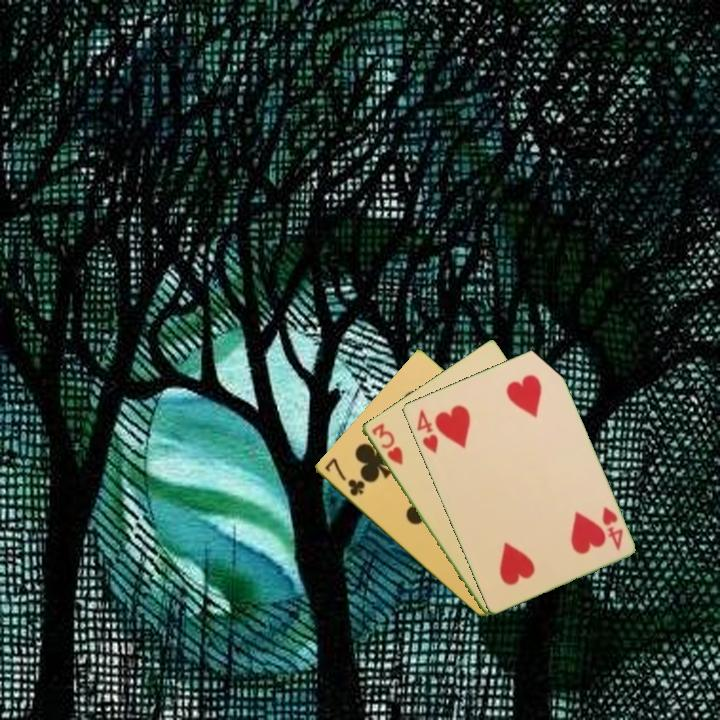3h: (368, 419, 406, 468)
4h: (413, 405, 441, 456), (598, 502, 626, 553)
7c: (321, 454, 368, 499)
